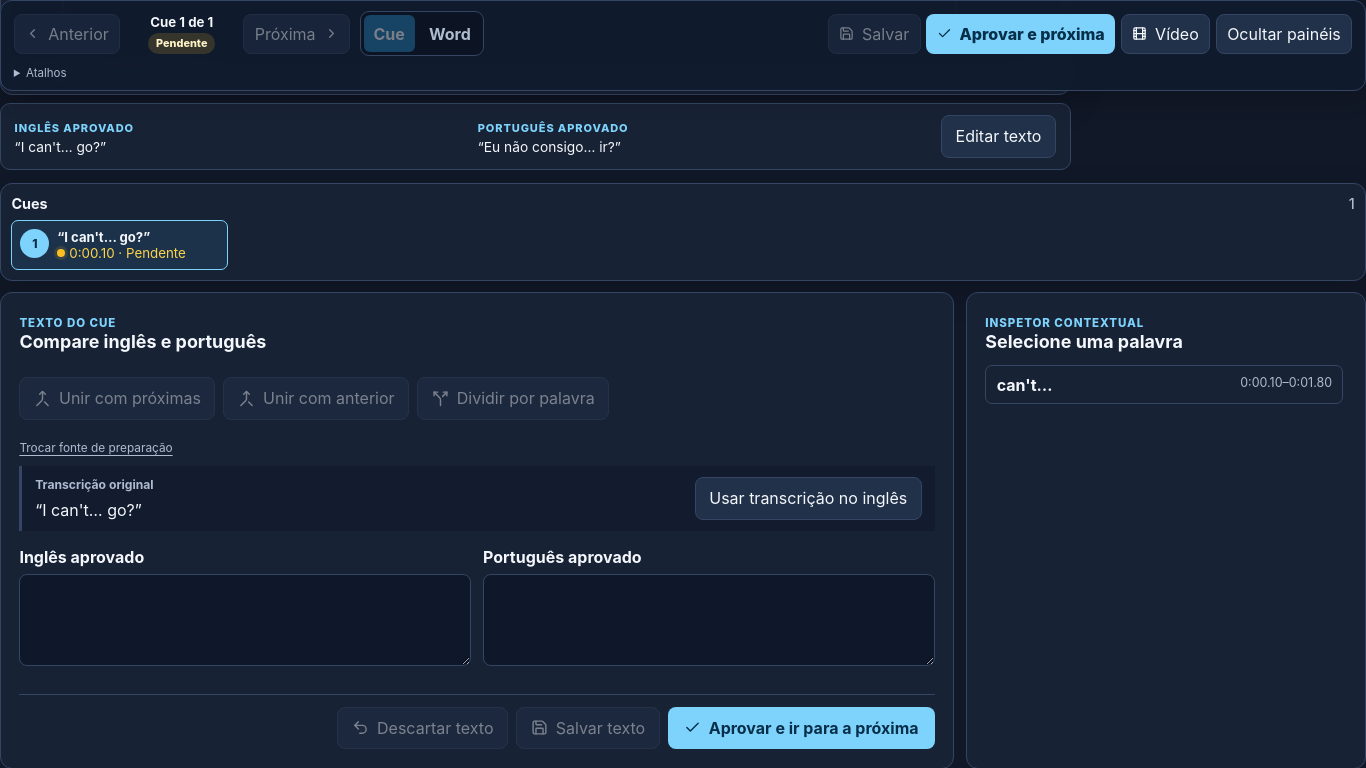
Scenario: EditorialPage › keeps the workstation open for manual review when a prepared cue lacks a word translation
(page scrolled)
Click the button "can't… 0:00.10–0:01.80" at [1025, 385], box top-left (985, 365), bottom-right (1343, 404)
(page scrolled)
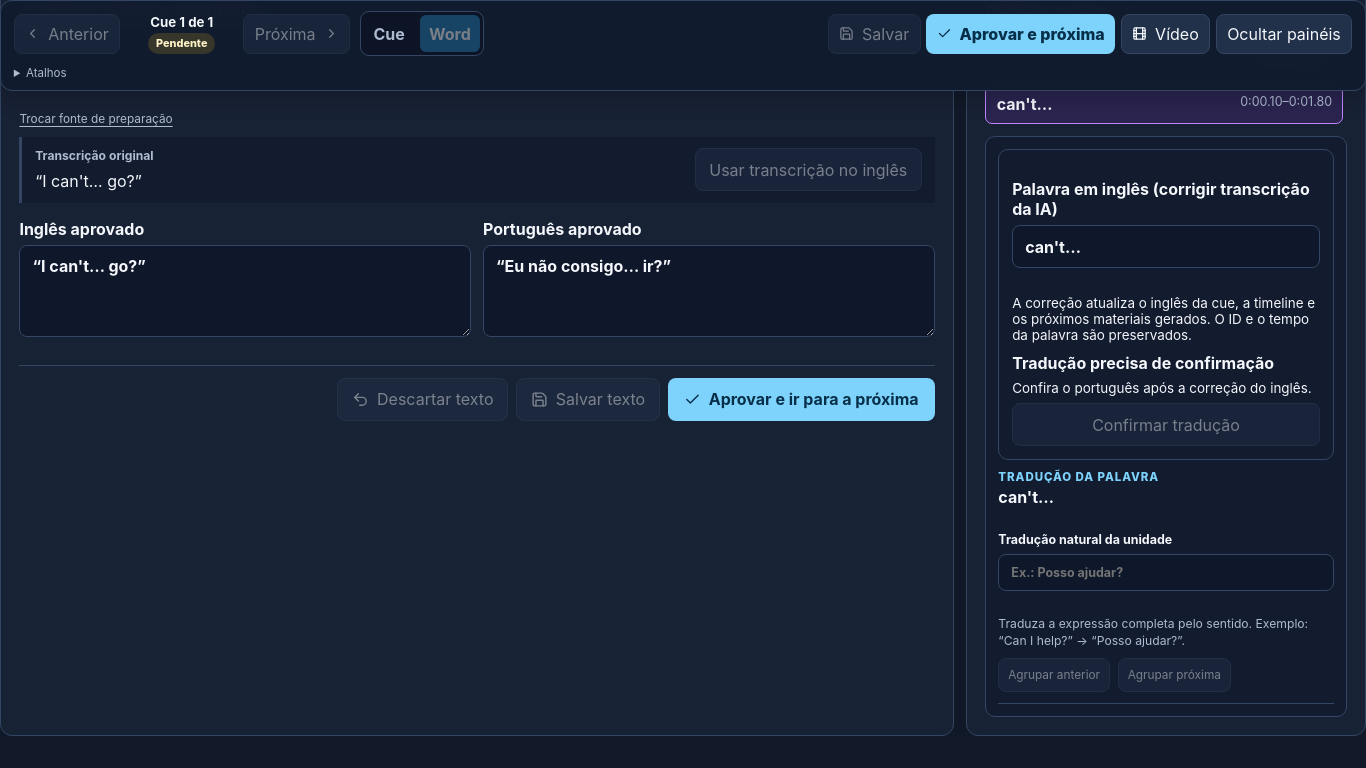
Result: the field labelled "Tradução natural da unidade" is enabled at top-left (998, 554), bottom-right (1334, 592)
